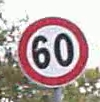limite 60: (16, 16, 88, 86)
